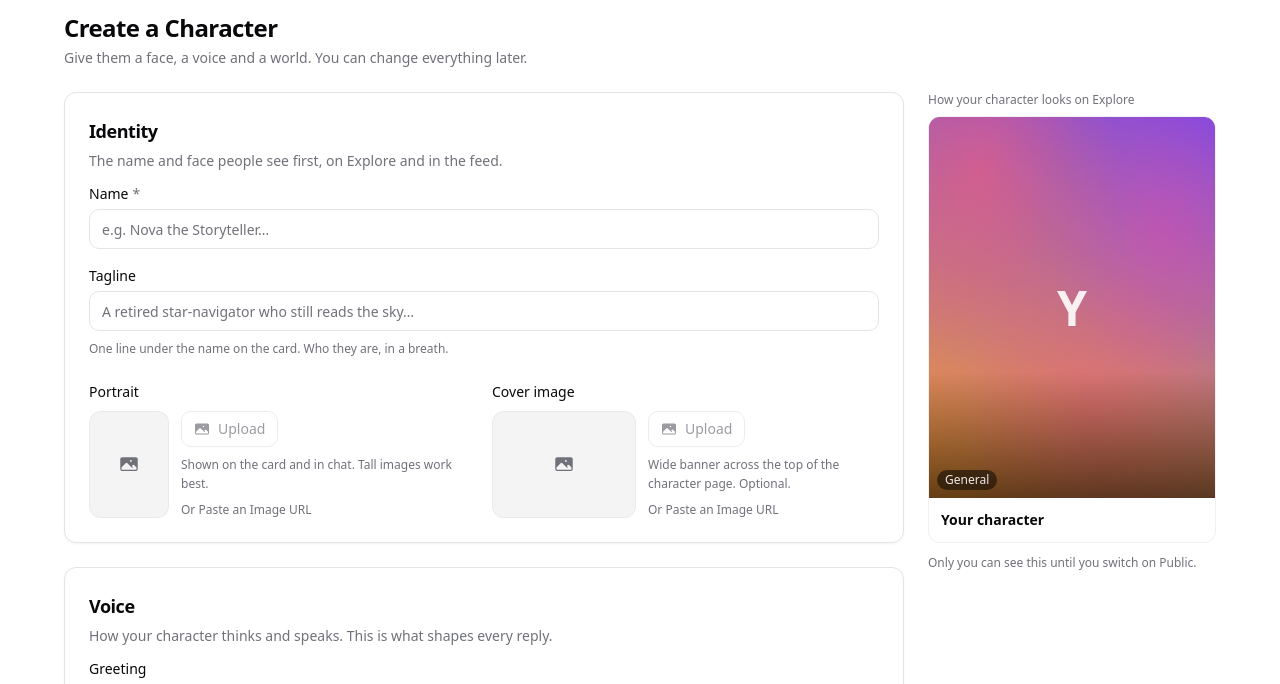
CharacterForm › previews the card from the current values
The width and height of the screenshot is (1280, 684).
Expected: the element named "Card preview" shows "your character", x1=956 y1=91 x2=1038 y2=108
Type "Nova" into the field labelled "Name*" at (484, 229), box x1=89 y1=209 x2=879 y2=249
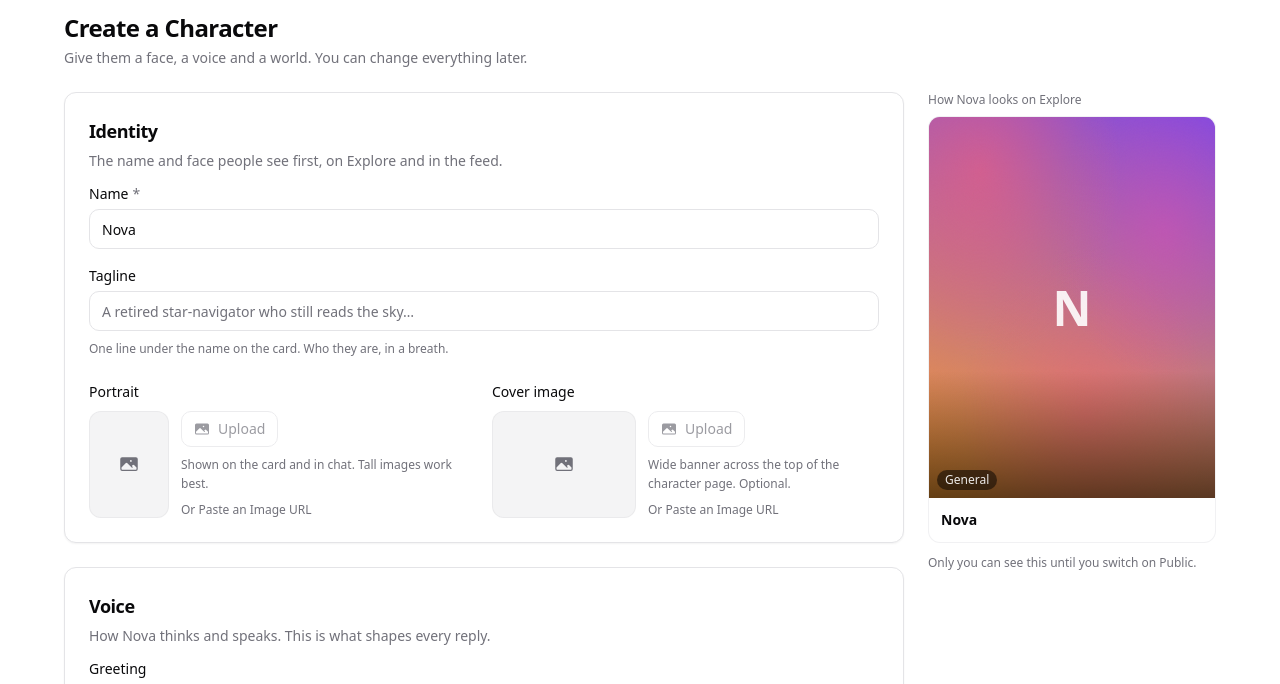
Type "Reads the sky" into the field labelled "Tagline" at (484, 311), box x1=89 y1=291 x2=879 y2=331
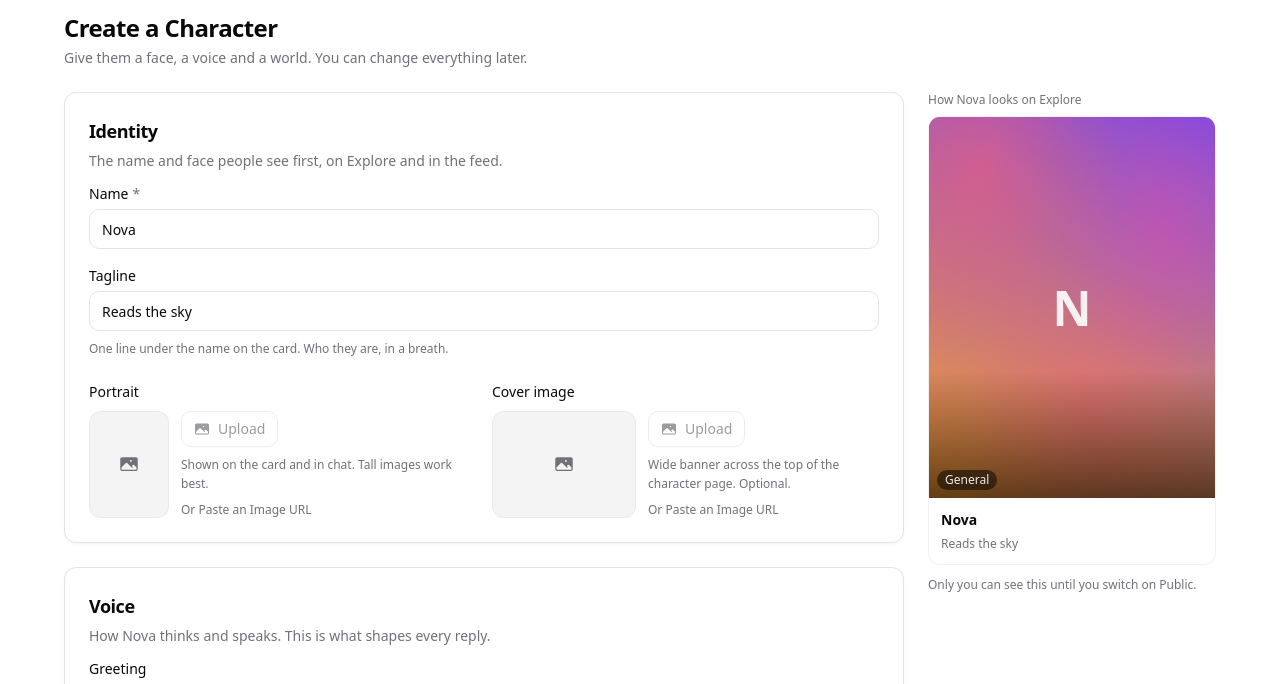
Expected: the element named "Card preview" shows "Nova", x1=956 y1=91 x2=986 y2=108
Expected: the element named "Card preview" shows "Reads the sky", x1=928 y1=116 x2=1216 y2=565
